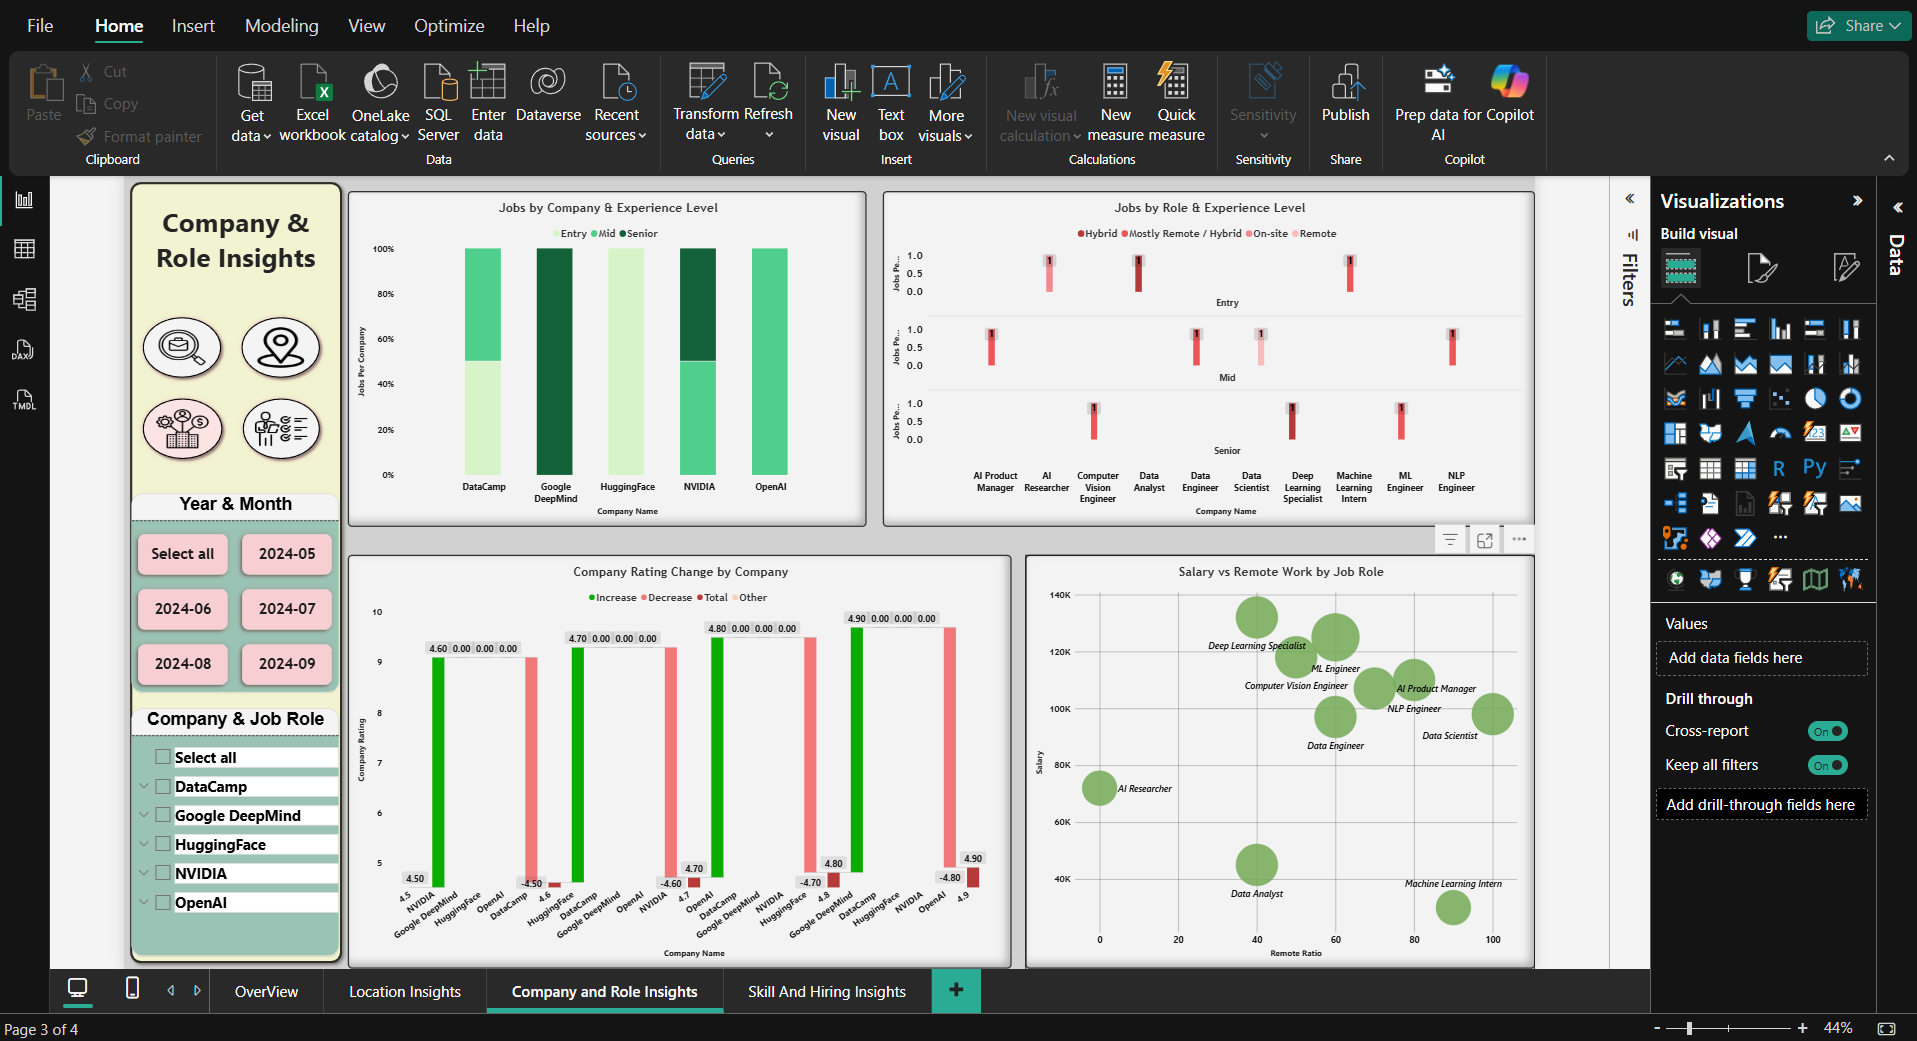

The dashboard page shown, as its layout file describes it:
{"tool":"powerbi","page":{"name":"Company and Role Insights","canvas":[2560,1440],"ordinal":2},"visuals":[{"type":"shape","box":[0,0,407,1439.5],"z":0},{"type":"slicer","title":"Company & Job Role","fields":{"Values":["Dim_Companies.Company_Name","Fact_Jobs.Job_Title"]},"box":[14,967.4,376.7,448.8],"z":1000},{"type":"hundredPercentStackedColumnChart","title":"Jobs by Company & Experience Level","fields":{"Category":["Dim_Companies.Company_Name"],"Series":["Fact_Jobs.Experience_Level"],"Y":["Dim_Companies.JobPerCompany"]},"box":[407,27.9,941.9,609.3],"z":2000},{"type":"clusteredColumnChart","title":"Jobs by Role & Experience Level","fields":{"Category":["Fact_Jobs.Job_Title"],"Rows":["Fact_Jobs.Experience_Level"],"Series":["Fact_Jobs.IsRemote"],"Y":["Fact_Jobs.TotalJobs"]},"box":[1376.7,27.9,1183.7,609.3],"z":3000},{"type":"waterfallChart","title":"Company Rating Change by Company","fields":{"Breakdown":["Dim_Companies.Company_Name"],"Category":["Dim_Companies.Rating"],"Y":["Dim_Companies.CompanyAvgRating"]},"box":[407,688.4,1204.7,751.2],"z":4000},{"type":"scatterChart","title":"Salary vs Remote Work by Job Role","fields":{"Category":["Fact_Jobs.Job_Title"],"Size":["Dim_Skills.SkillUsageCount"],"X":["Sum(Fact_Jobs.Remote_Ratio)"],"Y":["Sum(Fact_Jobs.Salary_USD)"]},"box":[1634.9,688.4,925.6,751.2],"z":5000},{"type":"advancedSlicerVisual","title":"Year & Month","fields":{"Values":["Dim_Date.YearMonth"]},"box":[14,576.7,376.7,360.5],"z":6000},{"type":"actionButton","box":[25.6,246.5,160.5,127.9],"z":7000},{"type":"actionButton","box":[204.7,246.5,160.5,127.9],"z":8000},{"type":"actionButton","box":[25.6,395.3,162.8,127.9],"z":9000},{"type":"actionButton","box":[207,395.3,158.1,127.9],"z":10000},{"type":"textbox","box":[23.3,48.8,360.5,151.2],"z":11000}]}

Visuals, with their boxes on the page's 2560x1440 design canvas (x1, y1, x2, y2). These are canvas units, not pixel positions in the 1917x1041 screenshot, which may show the page scaled, cropped or inside an application window:
shape: bbox=[0, 0, 407, 1440]
"Company & Job Role" slicer: bbox=[14, 967, 391, 1416]
"Jobs by Company & Experience Level" hundredPercentStackedColumnChart: bbox=[407, 28, 1349, 637]
"Jobs by Role & Experience Level" clusteredColumnChart: bbox=[1377, 28, 2560, 637]
"Company Rating Change by Company" waterfallChart: bbox=[407, 688, 1612, 1440]
"Salary vs Remote Work by Job Role" scatterChart: bbox=[1635, 688, 2560, 1440]
"Year & Month" advancedSlicerVisual: bbox=[14, 577, 391, 937]
actionButton: bbox=[26, 246, 186, 374]
actionButton: bbox=[205, 246, 365, 374]
actionButton: bbox=[26, 395, 188, 523]
actionButton: bbox=[207, 395, 365, 523]
textbox: bbox=[23, 49, 384, 200]
